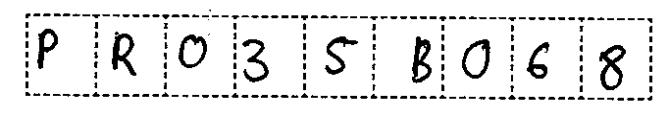0: (457, 34, 495, 84), (174, 31, 212, 73)
3: (238, 34, 276, 87)
5: (320, 34, 363, 80)
6: (523, 38, 557, 84)
8: (593, 41, 631, 92)
B: (407, 33, 438, 89)
P: (34, 24, 63, 74)
R: (106, 29, 142, 83)
